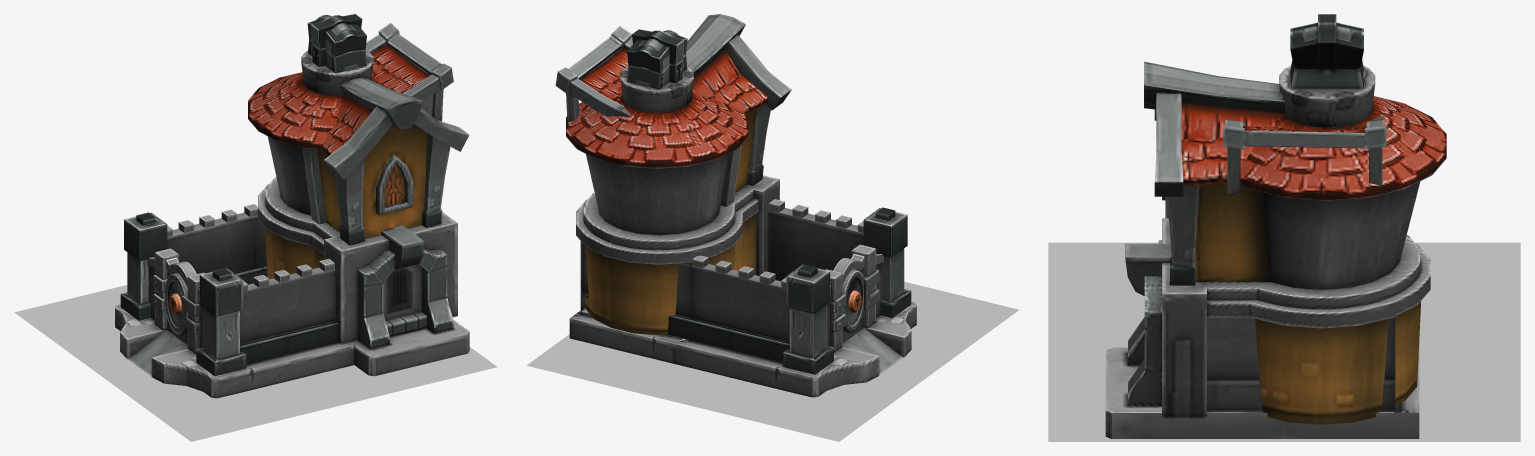
Rendered from C_Treasury_LV3.fbx.
3 renders of one model, left to right at view 1: azimuth 30°, elevation 25°; view 2: azimuth 150°, elevation 25°; view 3: azimuth 270°, elevation 25°, orthographic. The views are drawn at different scales.
Parts seen in each view (by area): view 1: Teasury_LV03_0_mesh, Teasury_LV03_1_mesh; view 2: Teasury_LV03_0_mesh, Teasury_LV03_1_mesh; view 3: Teasury_LV03_0_mesh, Teasury_LV03_1_mesh.
Part boxes in pixels (x1,y1,x2,y2): Teasury_LV03_0_mesh: (115,14,469,398); Teasury_LV03_1_mesh: (14,285,497,441); Teasury_LV03_0_mesh: (555,14,916,397); Teasury_LV03_1_mesh: (527,281,1019,441); Teasury_LV03_0_mesh: (1105,14,1446,438); Teasury_LV03_1_mesh: (1048,242,1520,441).
Size of the model in its own units: 129 by 107 by 120.
